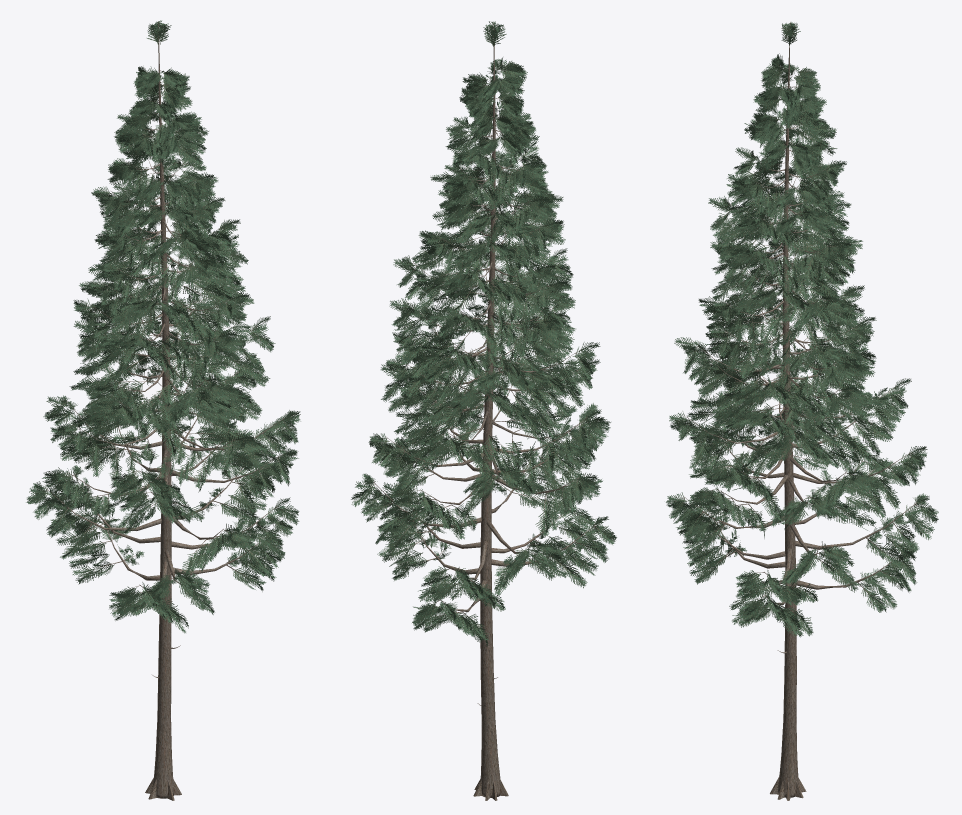
The model's file is SS_Defect_CoarseBranch_Young_01_LOD0.fbx.
The picture shows the model from 3 angles, left to right: view 1: azimuth 30°, elevation 25°; view 2: azimuth 150°, elevation 25°; view 3: azimuth 270°, elevation 25°; orthographic projection.
Parts seen in each view (by area): view 1: SS_Defect_CoarseBranch_Young_01_LOD0_Foliage, SS_Defect_CoarseBranch_Young_01_LOD0_Branches, SS_Defect_CoarseBranch_Young_01_LOD0_Trunk; view 2: SS_Defect_CoarseBranch_Young_01_LOD0_Foliage, SS_Defect_CoarseBranch_Young_01_LOD0_Branches, SS_Defect_CoarseBranch_Young_01_LOD0_Trunk; view 3: SS_Defect_CoarseBranch_Young_01_LOD0_Foliage, SS_Defect_CoarseBranch_Young_01_LOD0_Branches, SS_Defect_CoarseBranch_Young_01_LOD0_Trunk.
Part boxes in pixels (x1,y1,x2,y2): SS_Defect_CoarseBranch_Young_01_LOD0_Foliage: (26,20,300,633); SS_Defect_CoarseBranch_Young_01_LOD0_Branches: (44,69,285,678); SS_Defect_CoarseBranch_Young_01_LOD0_Trunk: (145,21,181,800); SS_Defect_CoarseBranch_Young_01_LOD0_Foliage: (351,21,616,646); SS_Defect_CoarseBranch_Young_01_LOD0_Branches: (369,63,598,705); SS_Defect_CoarseBranch_Young_01_LOD0_Trunk: (473,23,508,800); SS_Defect_CoarseBranch_Young_01_LOD0_Foliage: (666,22,938,637); SS_Defect_CoarseBranch_Young_01_LOD0_Branches: (681,64,919,708); SS_Defect_CoarseBranch_Young_01_LOD0_Trunk: (770,22,806,800).
Bounding box in the file's own units: 384 × 1150 × 398.
